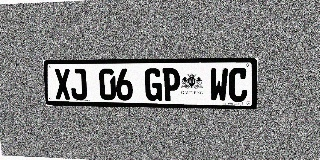0: (99, 68, 116, 100)
6: (116, 68, 133, 101)
C: (228, 68, 248, 102)
G: (145, 68, 162, 101)
J: (70, 69, 87, 100)
P: (162, 68, 180, 101)
W: (209, 68, 228, 102)
X: (54, 69, 71, 100)
